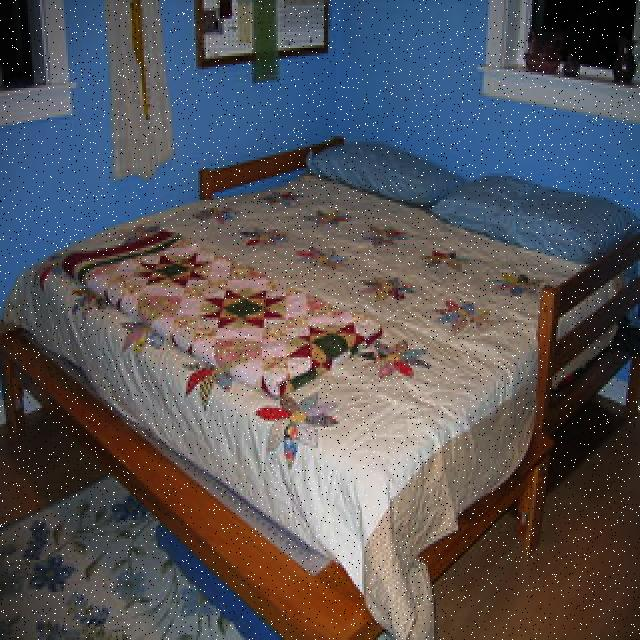bed: (0, 136, 636, 574)
